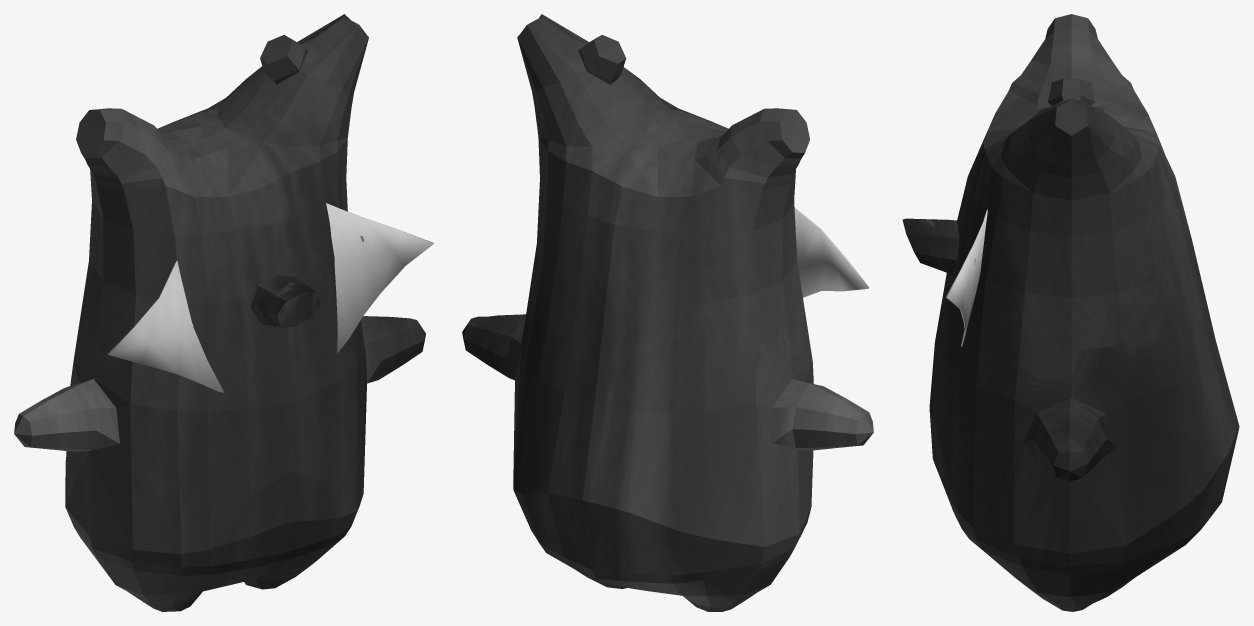
Rendered from frame_0001.obj.
3 renders of one model, left to right at view 1: azimuth 30°, elevation 25°; view 2: azimuth 150°, elevation 25°; view 3: azimuth 270°, elevation 25°, orthographic.
Parts seen in each view (by area): view 1: korok, leaf, nose; view 2: korok, leaf; view 3: korok, nose, leaf.
Boxes of the visible parts, x1=… form: korok: x1=14, y1=14, x2=425, y2=611; leaf: x1=108, y1=203, x2=433, y2=392; nose: x1=251, y1=274, x2=320, y2=327; korok: x1=462, y1=14, x2=873, y2=611; leaf: x1=794, y1=207, x2=869, y2=297; korok: x1=929, y1=14, x2=1239, y2=611; nose: x1=902, y1=218, x2=959, y2=273; leaf: x1=945, y1=209, x2=987, y2=346.
Size of the model in its own units: 1.78 by 2.28 by 1.27.
